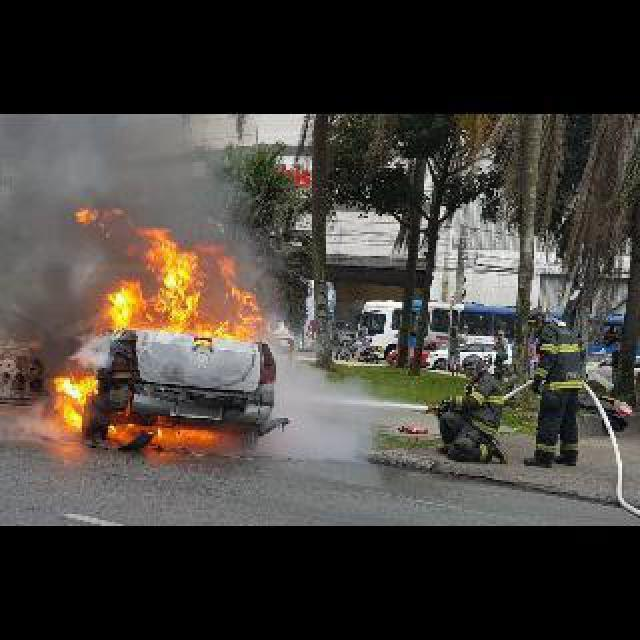Fire: (74, 200, 268, 344), (54, 368, 222, 446)
Smoke: (0, 116, 289, 342)
